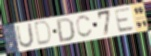7: (96, 9, 113, 38)
C: (75, 14, 94, 39)
D: (56, 17, 76, 44), (34, 20, 53, 47)
E: (113, 7, 136, 34)
U: (15, 22, 36, 49)
